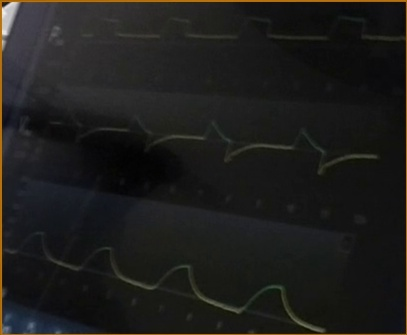Normal Flow: (54, 96, 375, 176)
Normal Volume: (4, 221, 330, 333)
